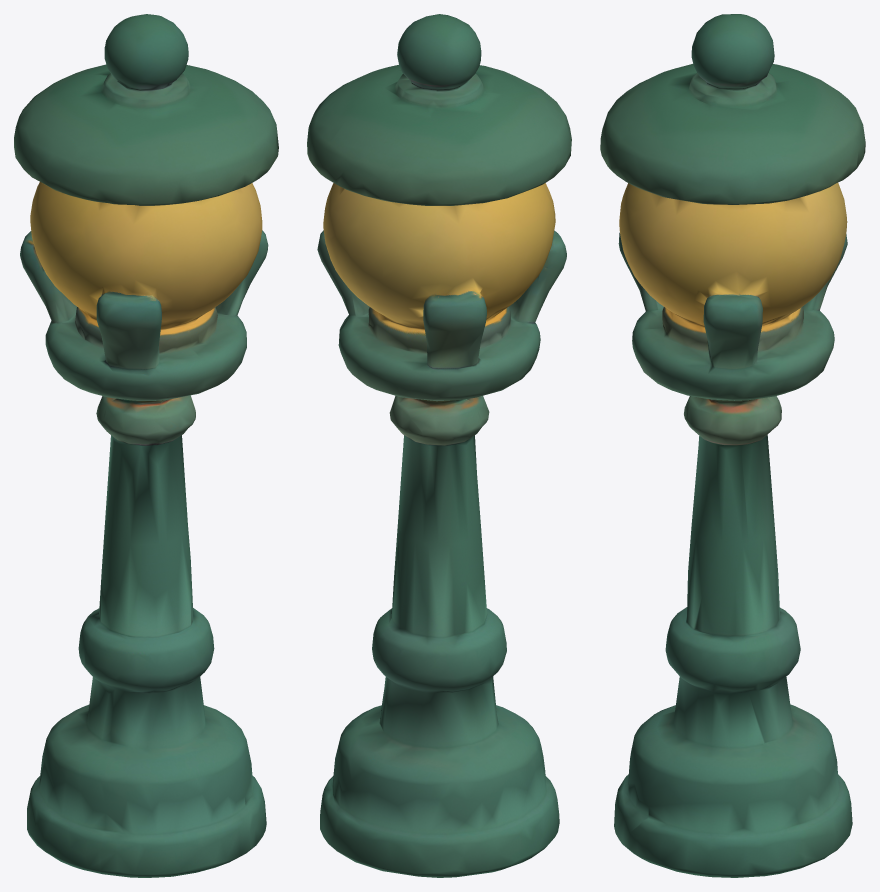
The model's file is street_lamp.glb.
3 renders of one model, left to right at view 1: azimuth 30°, elevation 25°; view 2: azimuth 150°, elevation 25°; view 3: azimuth 270°, elevation 25°, orthographic.
Parts seen in each view (by area): view 1: tripo_node_59b87095-8779-4edc-822a-612be7779930; view 2: tripo_node_59b87095-8779-4edc-822a-612be7779930; view 3: tripo_node_59b87095-8779-4edc-822a-612be7779930.
Boxes of the visible parts, box(x1,y1,x2,y2) form: tripo_node_59b87095-8779-4edc-822a-612be7779930: box(14, 14, 278, 877); tripo_node_59b87095-8779-4edc-822a-612be7779930: box(307, 14, 571, 877); tripo_node_59b87095-8779-4edc-822a-612be7779930: box(600, 14, 865, 877).
Bounding box in the file's own units: 0.2953 × 1 × 0.2955.
1 material, 1 textured.
